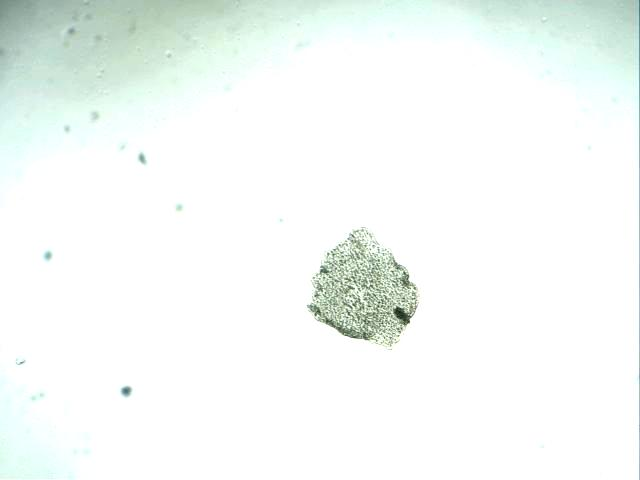Placozoan: (306, 226, 419, 350)
